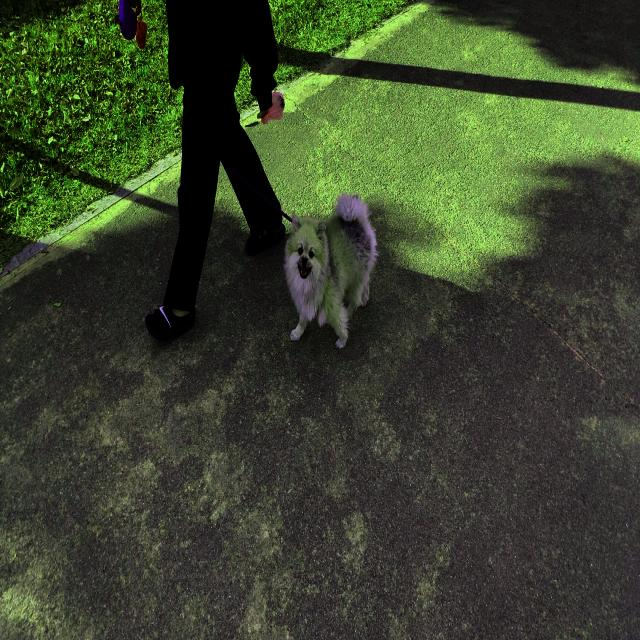Leashed_Dog: (184, 122, 380, 349)
